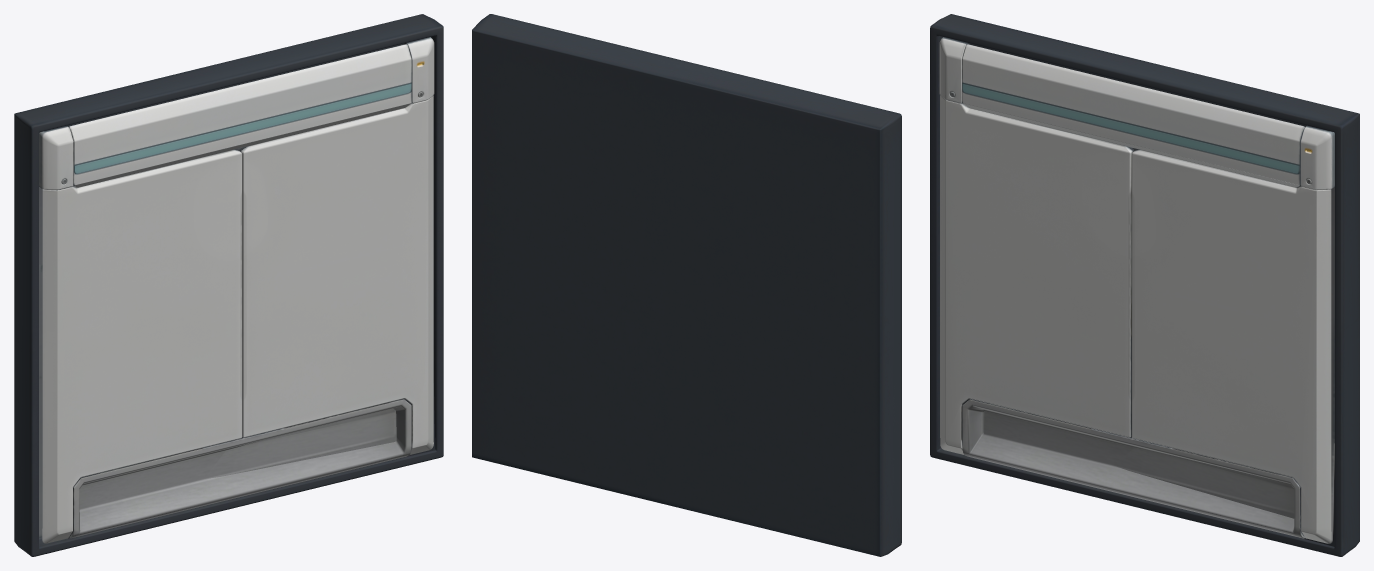
Rendered from clinical_wall_p2_pbr_4k.glb.
The picture shows the model from 3 angles, left to right: view 1: azimuth 30°, elevation 25°; view 2: azimuth 150°, elevation 25°; view 3: azimuth 330°, elevation 25°; orthographic projection.
Parts seen in each view (by area): view 1: tripo_node_2962e733-d94c-4092-93cf-47e0bf829d08; view 2: tripo_node_2962e733-d94c-4092-93cf-47e0bf829d08; view 3: tripo_node_2962e733-d94c-4092-93cf-47e0bf829d08.
Part boxes in pixels (left/top/right/bottom): tripo_node_2962e733-d94c-4092-93cf-47e0bf829d08: left=14, top=14, right=443, bottom=556; tripo_node_2962e733-d94c-4092-93cf-47e0bf829d08: left=472, top=14, right=901, bottom=556; tripo_node_2962e733-d94c-4092-93cf-47e0bf829d08: left=930, top=14, right=1359, bottom=556.
Size of the model in its own units: 0.9995 by 0.9995 by 0.105.
1 material, 1 textured.
